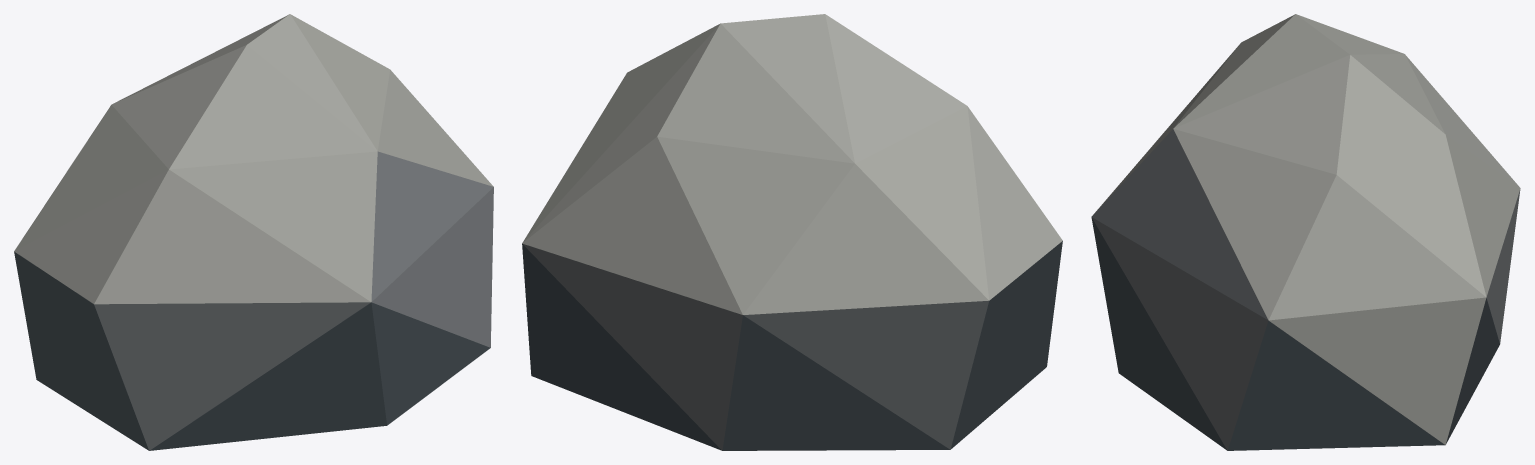
Rendered from rock-c.glb.
3 views of the same model, side by side, from view 1: azimuth 30°, elevation 25°; view 2: azimuth 150°, elevation 25°; view 3: azimuth 270°, elevation 25° (orthographic). The views are drawn at different scales.
Visible parts, largest first — view 1: Rock_C_Cobble; view 2: Rock_C_Cobble; view 3: Rock_C_Cobble.
Part boxes in pixels (left/top/right/bottom): Rock_C_Cobble: left=14, top=14, right=493, bottom=450; Rock_C_Cobble: left=522, top=14, right=1062, bottom=450; Rock_C_Cobble: left=1091, top=14, right=1520, bottom=450.
Size of the model in its own units: 0.73 by 0.54 by 0.63.
1 material, 1 textured.
